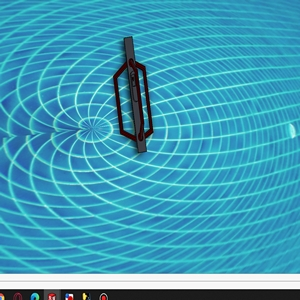submarine: (111, 36, 155, 155)
